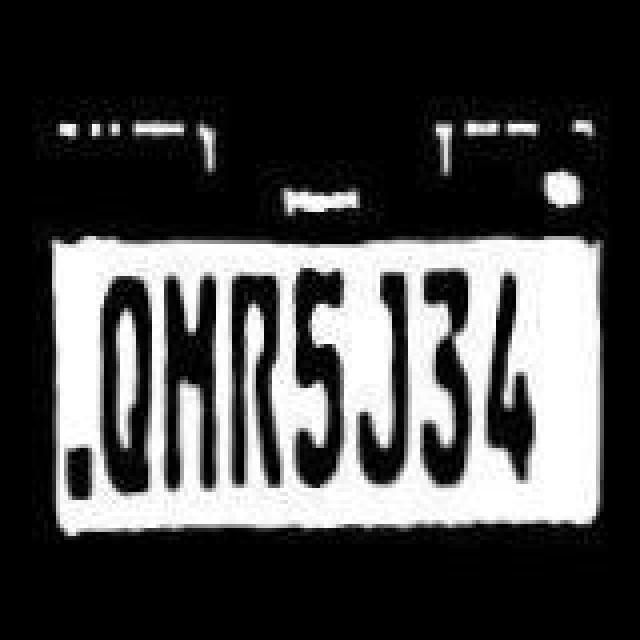3: (418, 254, 478, 502)
4: (480, 260, 540, 500)
5: (292, 256, 348, 496)
J: (354, 266, 414, 490)
M: (160, 268, 220, 504)
Q: (94, 268, 158, 500)
R: (224, 270, 284, 494)
